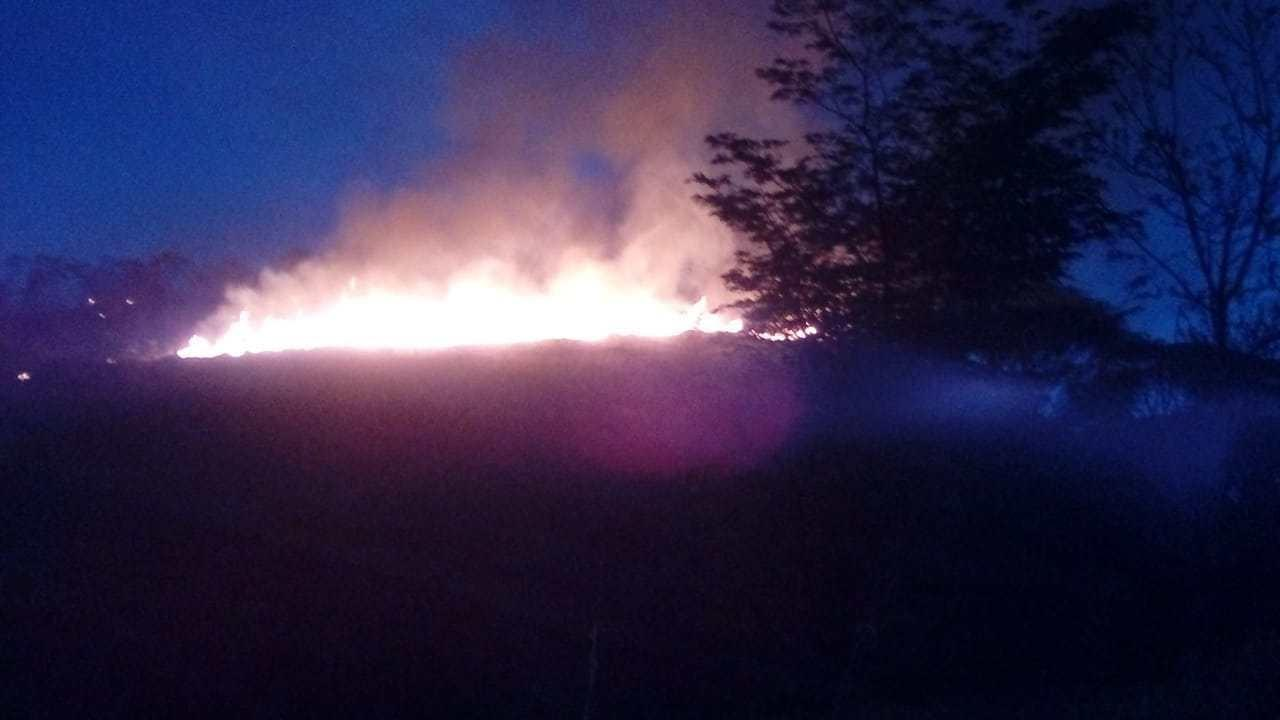fire: (183, 268, 813, 348)
